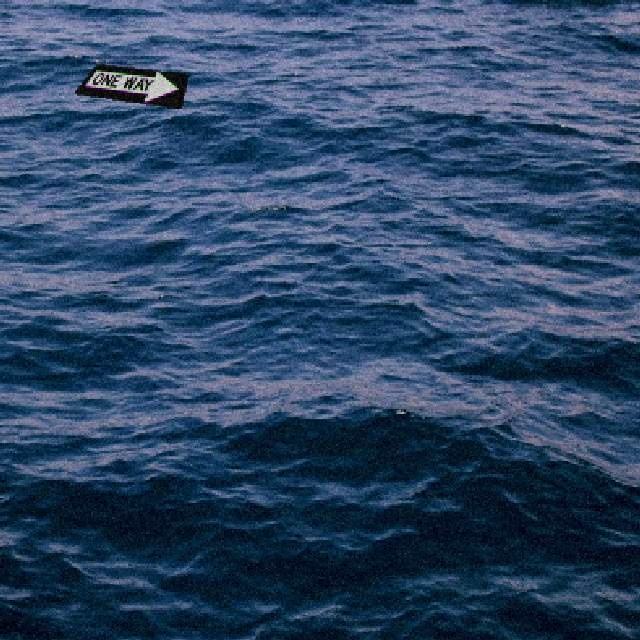ONE_WAY_ right: (71, 62, 188, 108)
